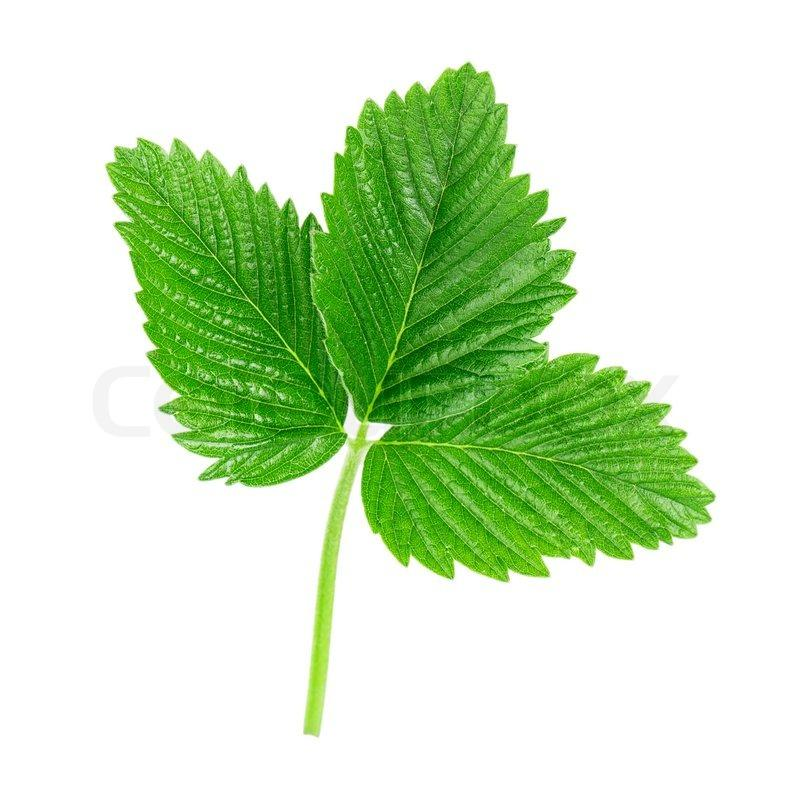Strawberry leaf: (304, 44, 582, 434), (107, 126, 375, 485), (365, 355, 724, 589)
